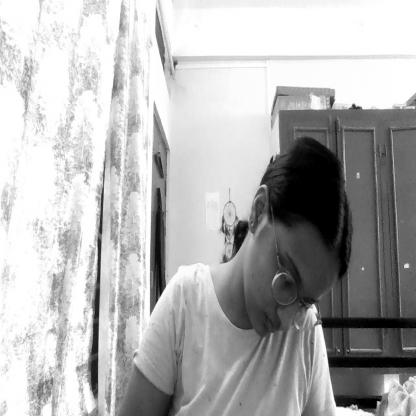Distracted: (246, 169, 333, 346)
